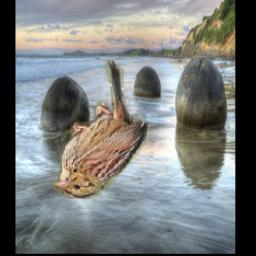Sparrow: (52, 55, 151, 199)
